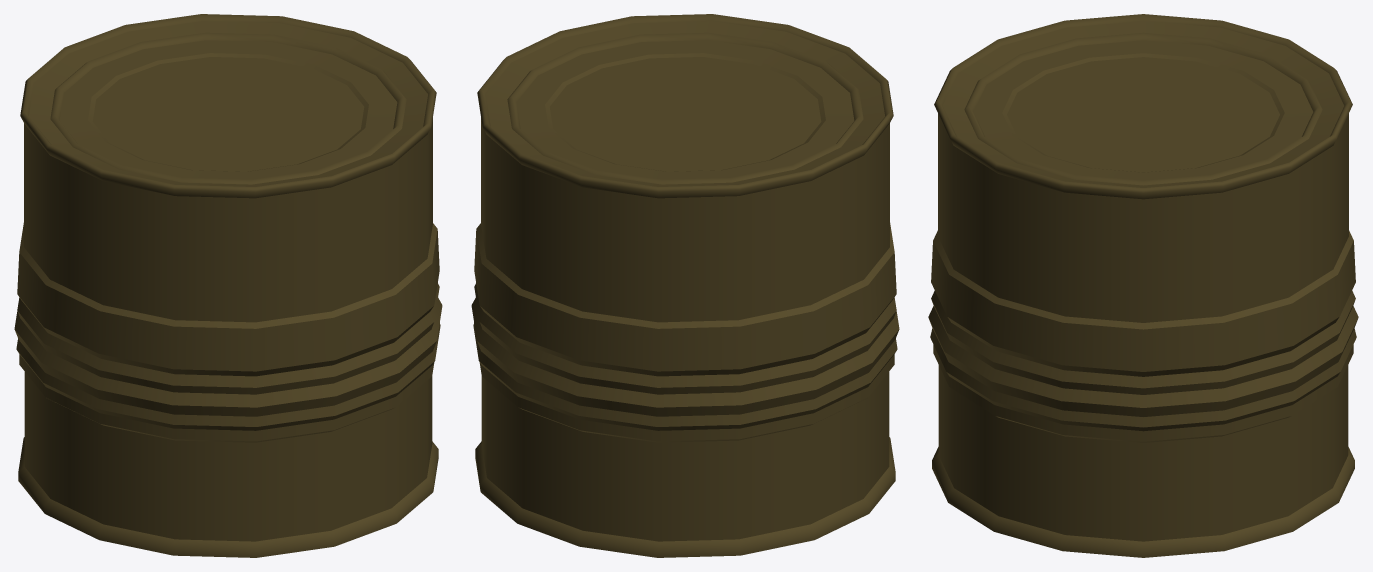
Rendered from dose1.fbx.
3 views of the same model, side by side, from view 1: azimuth 30°, elevation 25°; view 2: azimuth 150°, elevation 25°; view 3: azimuth 270°, elevation 25° (orthographic).
Parts seen in each view (by area): view 1: Dose-gross; view 2: Dose-gross; view 3: Dose-gross.
Boxes of the visible parts, left/top/right/bottom form: Dose-gross: left=14, top=14, right=442, bottom=557; Dose-gross: left=471, top=14, right=899, bottom=557; Dose-gross: left=928, top=14, right=1358, bottom=557.
Bounding box in the file's own units: 445 × 419 × 445.
